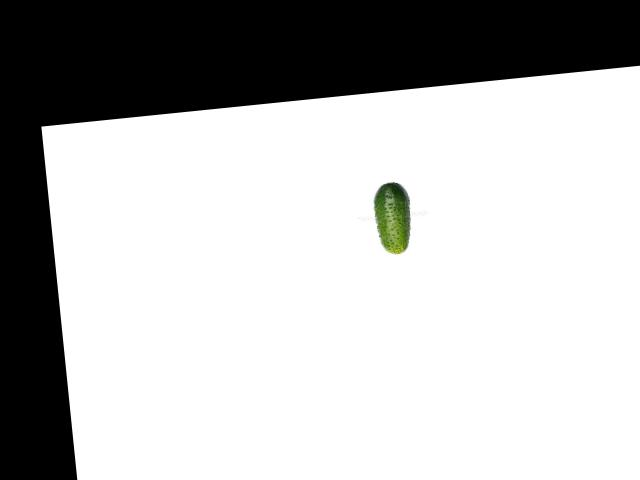cucumber: (370, 180, 414, 256)
